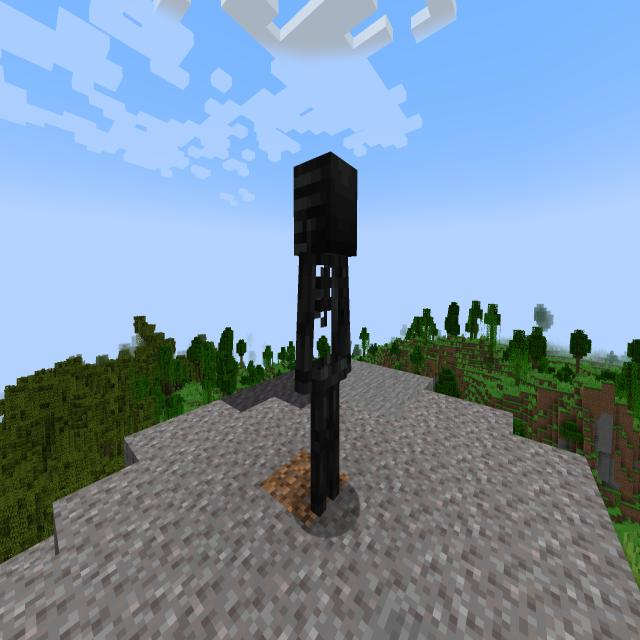Wither Skeleton: (280, 142, 374, 534)
